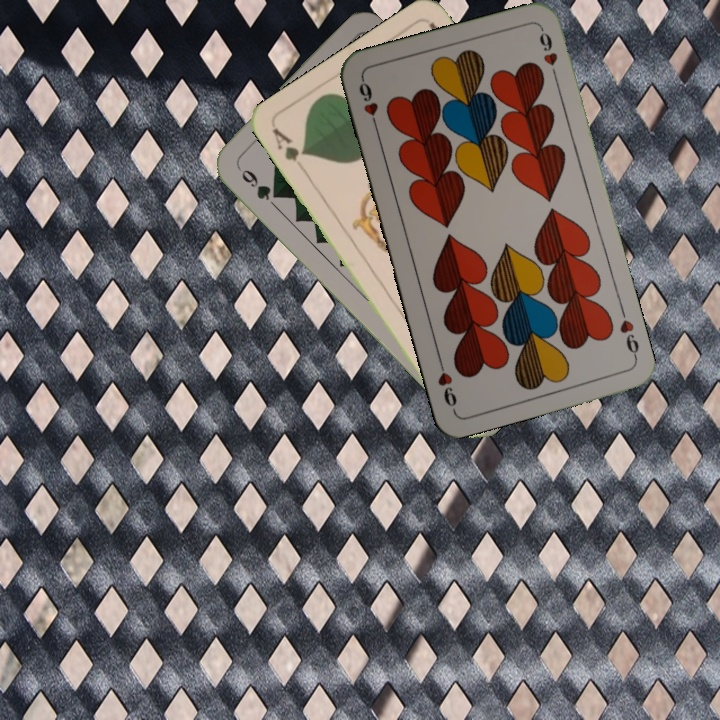G9: (237, 165, 283, 203)
GA: (268, 123, 309, 164)
H9: (355, 75, 381, 133), (615, 316, 642, 362)
